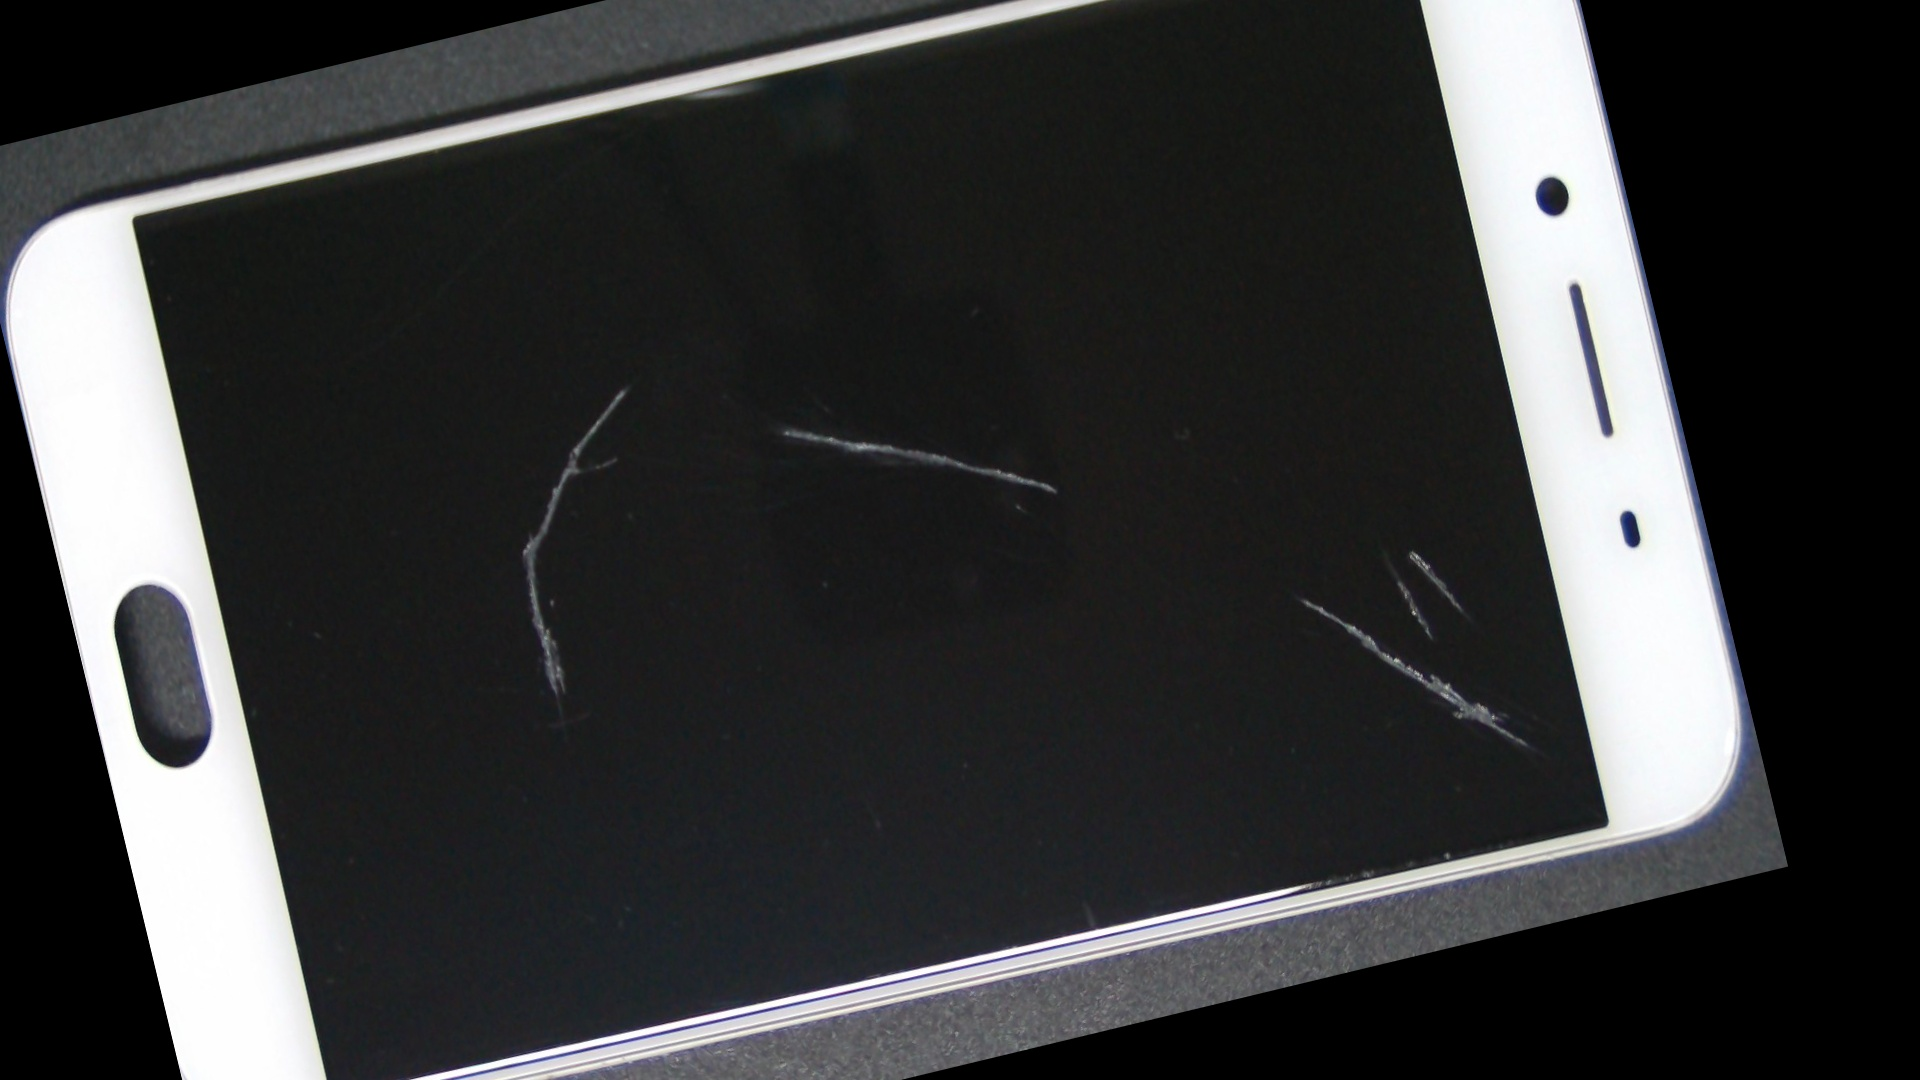oil: (629, 140, 1788, 1080), (678, 137, 1785, 1080), (684, 129, 1780, 1056), (373, 119, 1200, 737), (293, 132, 956, 640)
